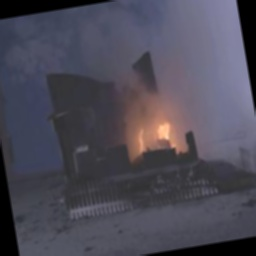fire: (122, 84, 192, 164)
smoke: (61, 0, 251, 121)
